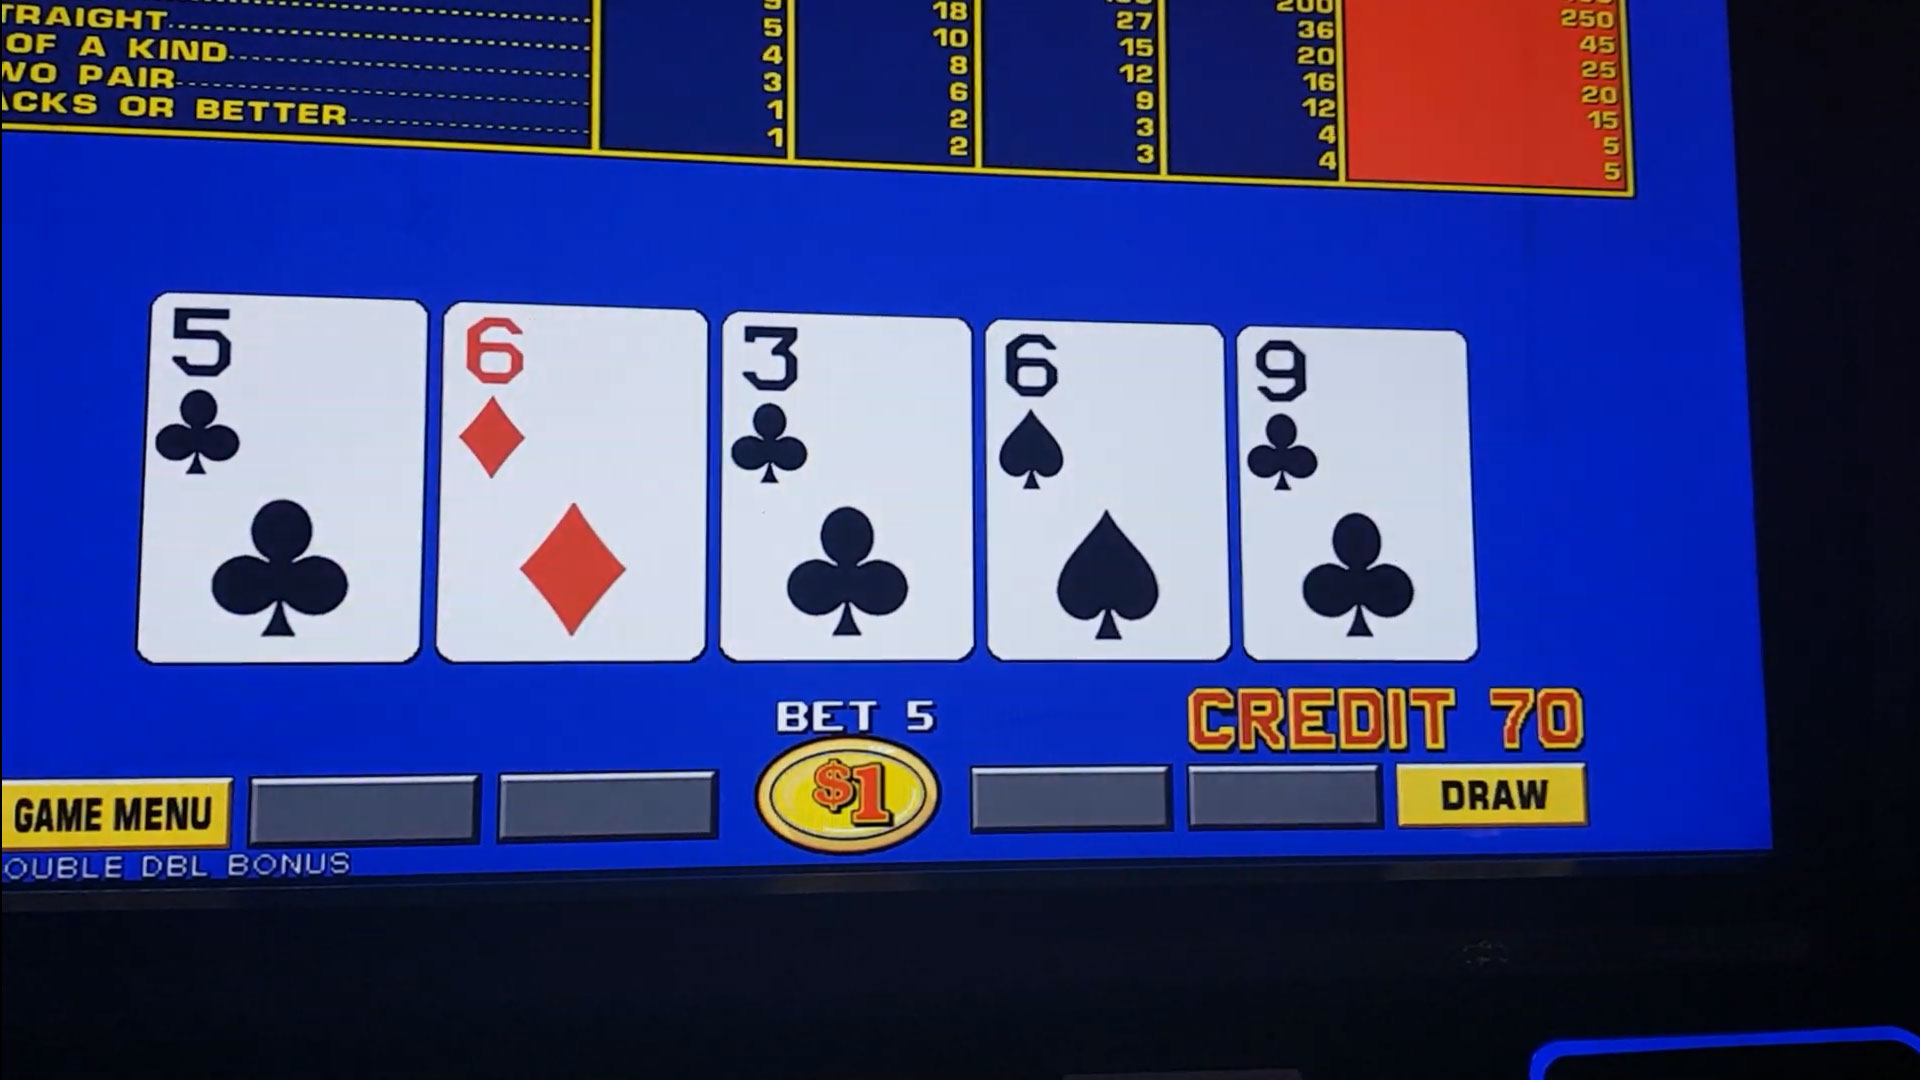C3: (727, 320, 965, 495)
C5: (158, 311, 419, 492)
C9: (1244, 338, 1461, 502)
D6: (451, 316, 702, 489)
S6: (992, 331, 1216, 500)
